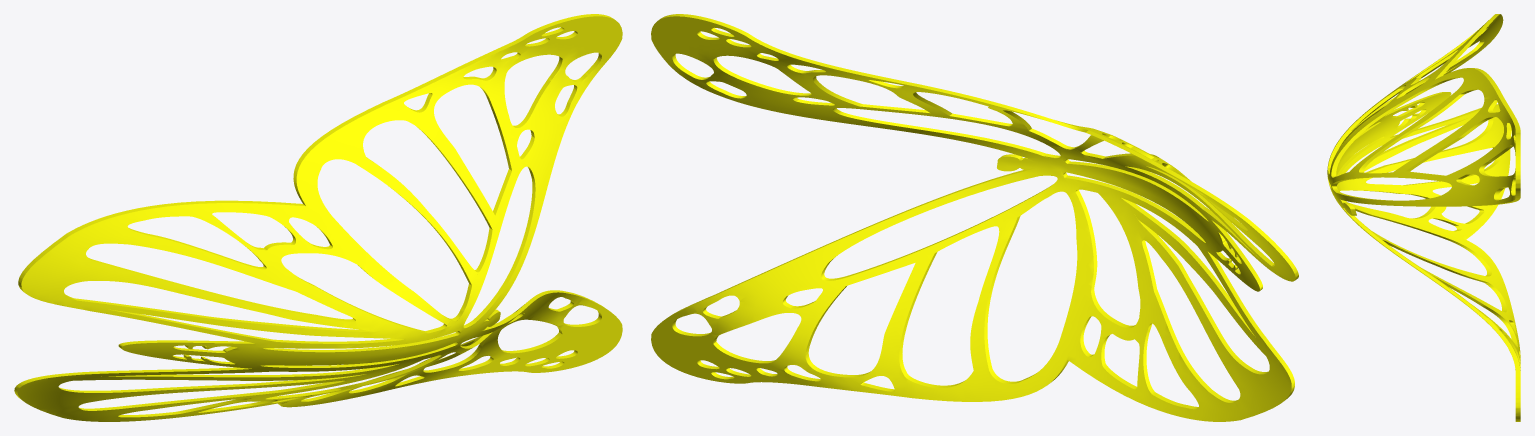
The model's file is 1butterfly.glb.
3 views of the same model, side by side, from view 1: azimuth 30°, elevation 25°; view 2: azimuth 150°, elevation 25°; view 3: azimuth 270°, elevation 25° (orthographic). The views are drawn at different scales.
Parts seen in each view (by area): view 1: butterfly; view 2: butterfly; view 3: butterfly.
Boxes of the visible parts, bbox=[...] form: butterfly: bbox=[14, 14, 622, 421]; butterfly: bbox=[651, 14, 1298, 421]; butterfly: bbox=[1327, 14, 1520, 421].
Size of the model in its own units: 113 by 61.28 by 40.08.
